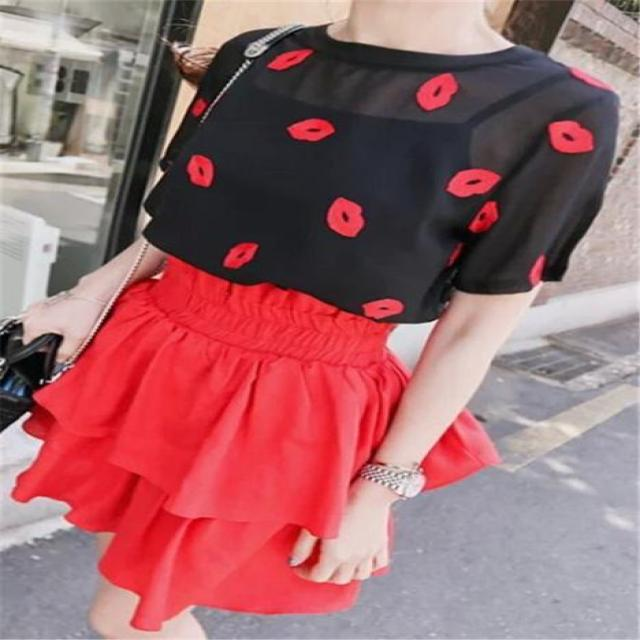short-sleeve-top: (196, 12, 585, 323)
skirt: (102, 323, 390, 608)
